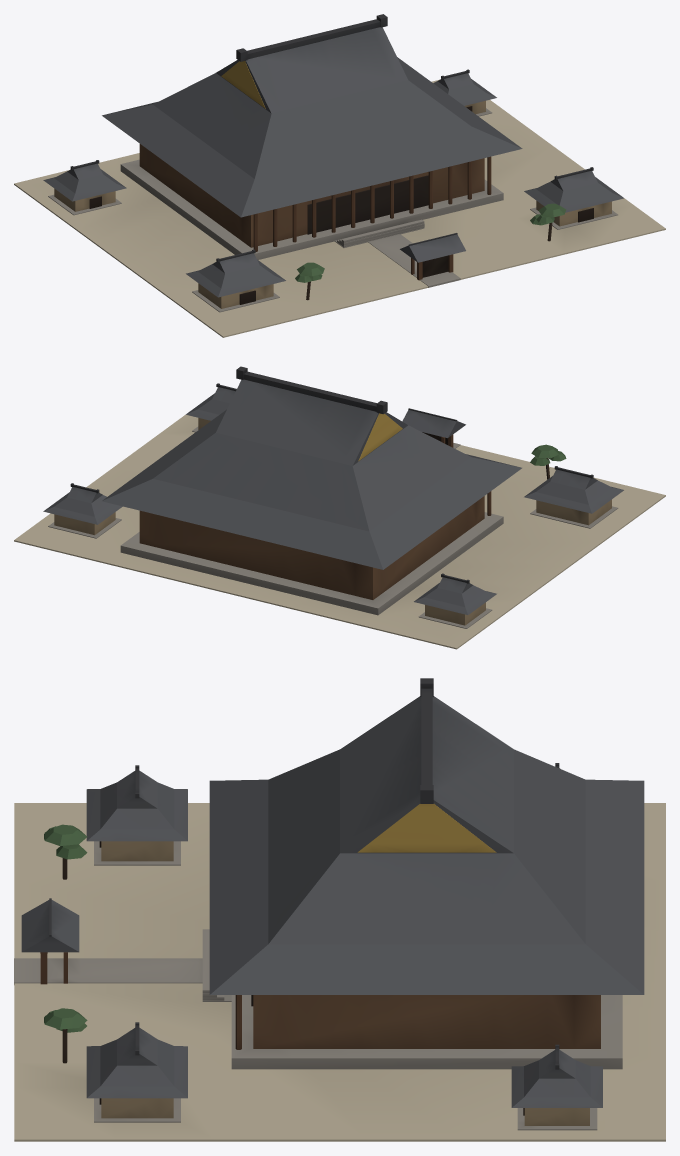
Rendered from tsukiji-honganji.glb.
3 views of the same model, one above another, from view 1: azimuth 30°, elevation 25°; view 2: azimuth 150°, elevation 25°; view 3: azimuth 270°, elevation 25° (orthographic). The views are drawn at different scales.
Parts seen in each view (by area): view 1: p1_main hall, p0_precinct, p2_gate and subtemples; view 2: p1_main hall, p0_precinct, p2_gate and subtemples; view 3: p1_main hall, p0_precinct, p2_gate and subtemples.
Boxes of the visible parts, x1,y1,x2,y2 form: p1_main hall: (102,14,522,259); p0_precinct: (14,79,665,337); p2_gate and subtemples: (43,69,623,312); p1_main hall: (102,366,521,615); p0_precinct: (14,414,665,649); p2_gate and subtemples: (43,383,623,628); p1_main hall: (202,678,644,1069); p0_precinct: (14,803,665,1141); p2_gate and subtemples: (21,763,602,1130).
Bounding box in the file's own units: 110 × 36.45 × 90.05.
